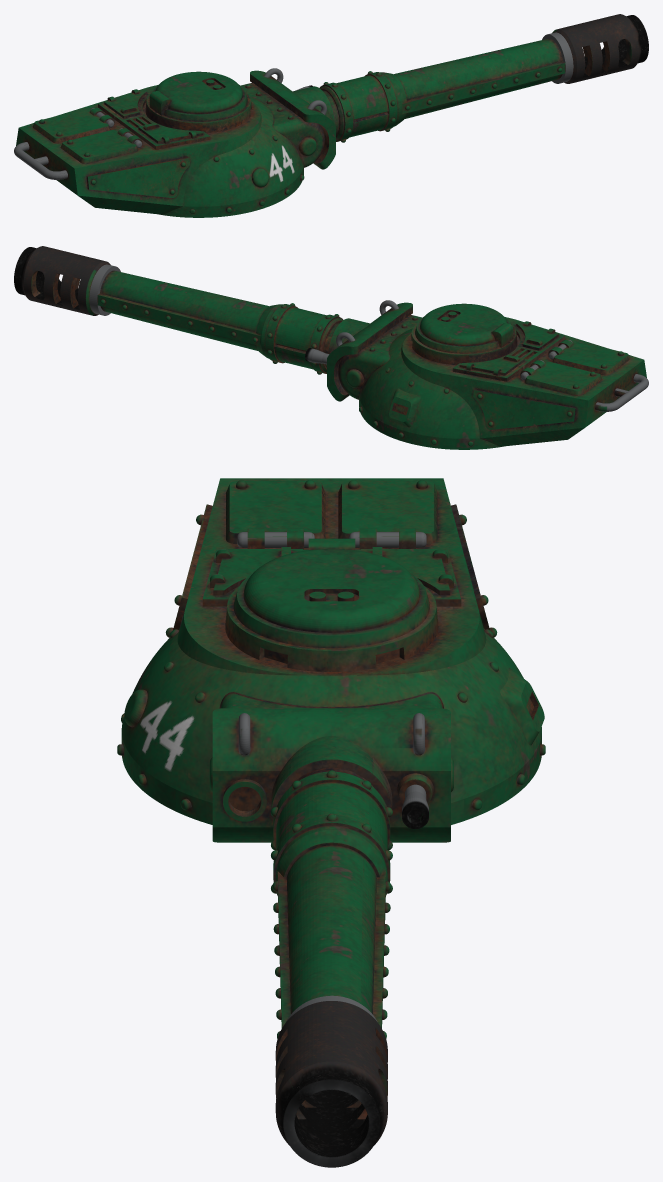
Rendered from vanquisherSPP.glb.
3 renders of one model, top to bottom at view 1: azimuth 30°, elevation 25°; view 2: azimuth 150°, elevation 25°; view 3: azimuth 270°, elevation 25°, orthographic. The views are drawn at different scales.
Visible parts, largest first — view 1: demolisherSTL; view 2: demolisherSTL; view 3: demolisherSTL.
Part boxes in pixels (<box>): demolisherSTL: <box>14,14,648,217</box>; demolisherSTL: <box>14,246,648,449</box>; demolisherSTL: <box>117,478,545,1167</box>.
Size of the model in its own units: 13186 by 1828 by 4030.
1 material, 1 textured.
